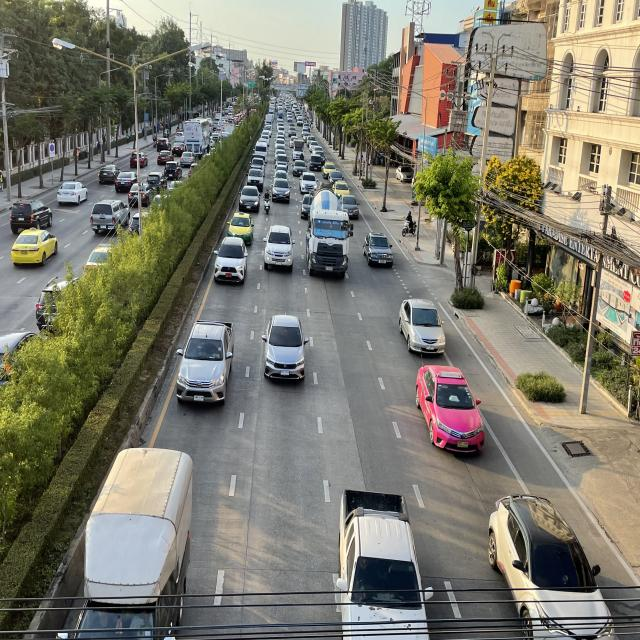bike: (263, 188, 271, 216)
car: (486, 490, 616, 640), (333, 485, 434, 640), (414, 364, 486, 455), (174, 318, 235, 405), (261, 312, 309, 383), (398, 297, 446, 357), (214, 236, 248, 286), (262, 223, 296, 271), (363, 232, 394, 268), (226, 212, 254, 246), (238, 186, 261, 212), (338, 193, 360, 220), (271, 179, 291, 204), (299, 193, 314, 220)
truck: (56, 444, 195, 640), (306, 186, 353, 280)
